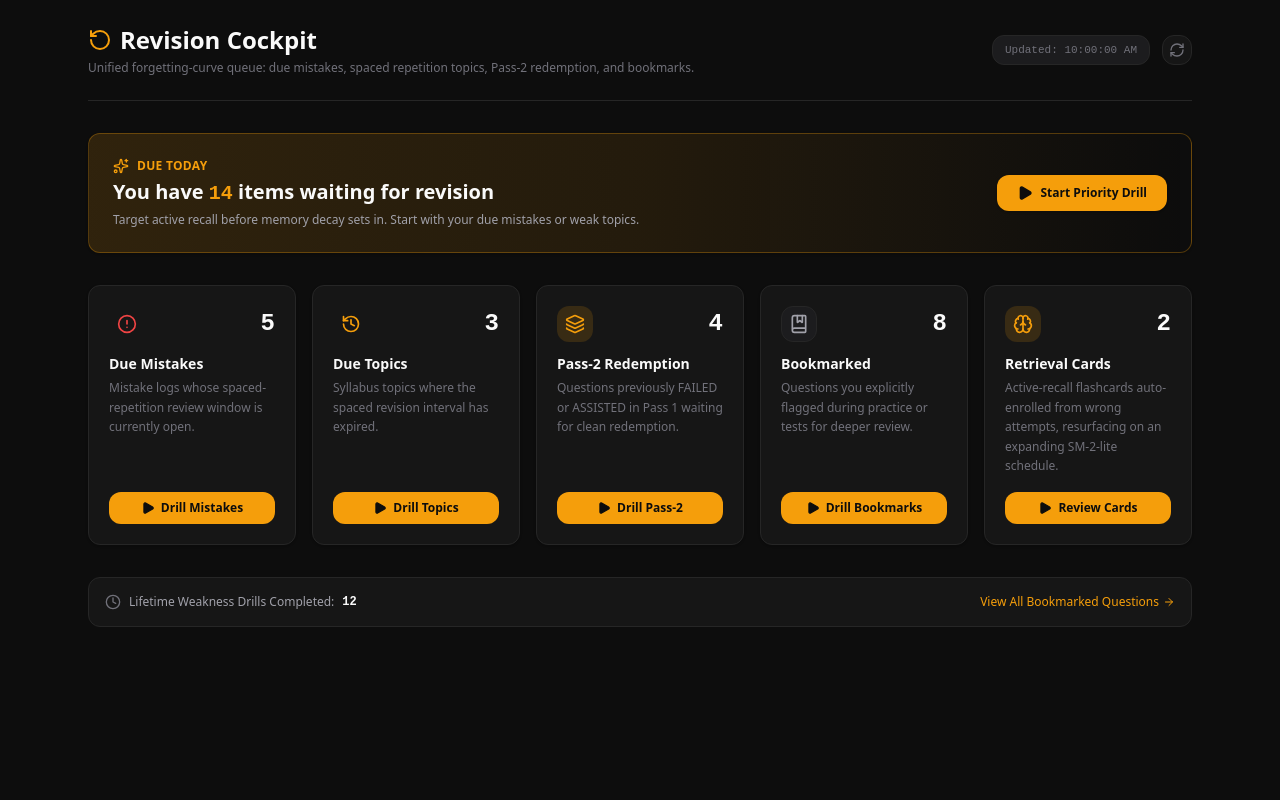
Test: RevisionPage › 8 WP2 - Review Cards opens the flashcard drawer, grades a card, and refreshes the overview
Later steps or results of the test are not shown.
Expected: the text with test id "count-due-cards" reads "2", [1157, 310, 1171, 337]
What coordinates should you click on to do the following:
click the button with test id "btn-review-cards"
I would click on:
 (1088, 508)
Its box is [1005, 492, 1171, 524].
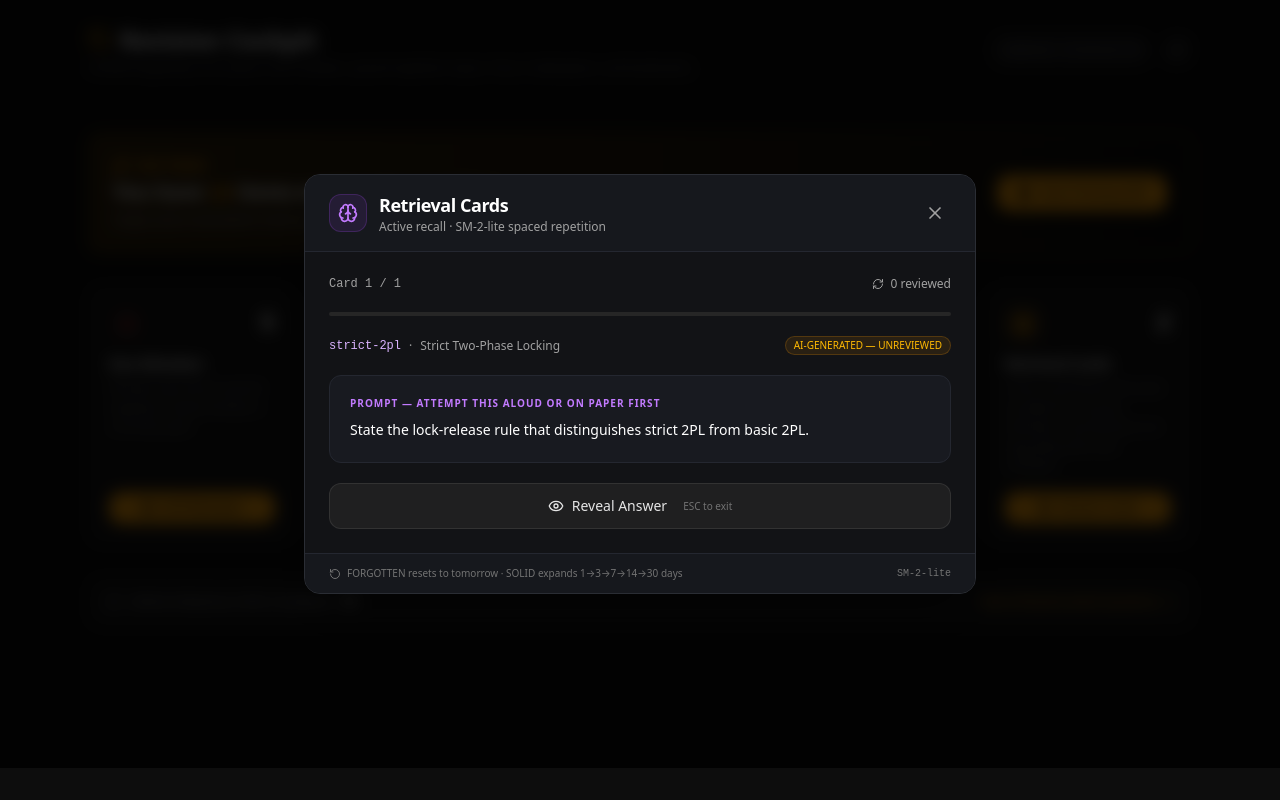
Result: the element with test id "card-prompt" is shown at [329, 375, 951, 463]
Result: the element with test id "card-prompt" shows "lock-release rule" at [350, 420, 809, 439]
# Reveal then grade SOLID
What coordinates should you click on to do the following:
click the button with test id "card-reveal-btn"
I would click on:
 (640, 506)
Its box is [329, 483, 951, 529].
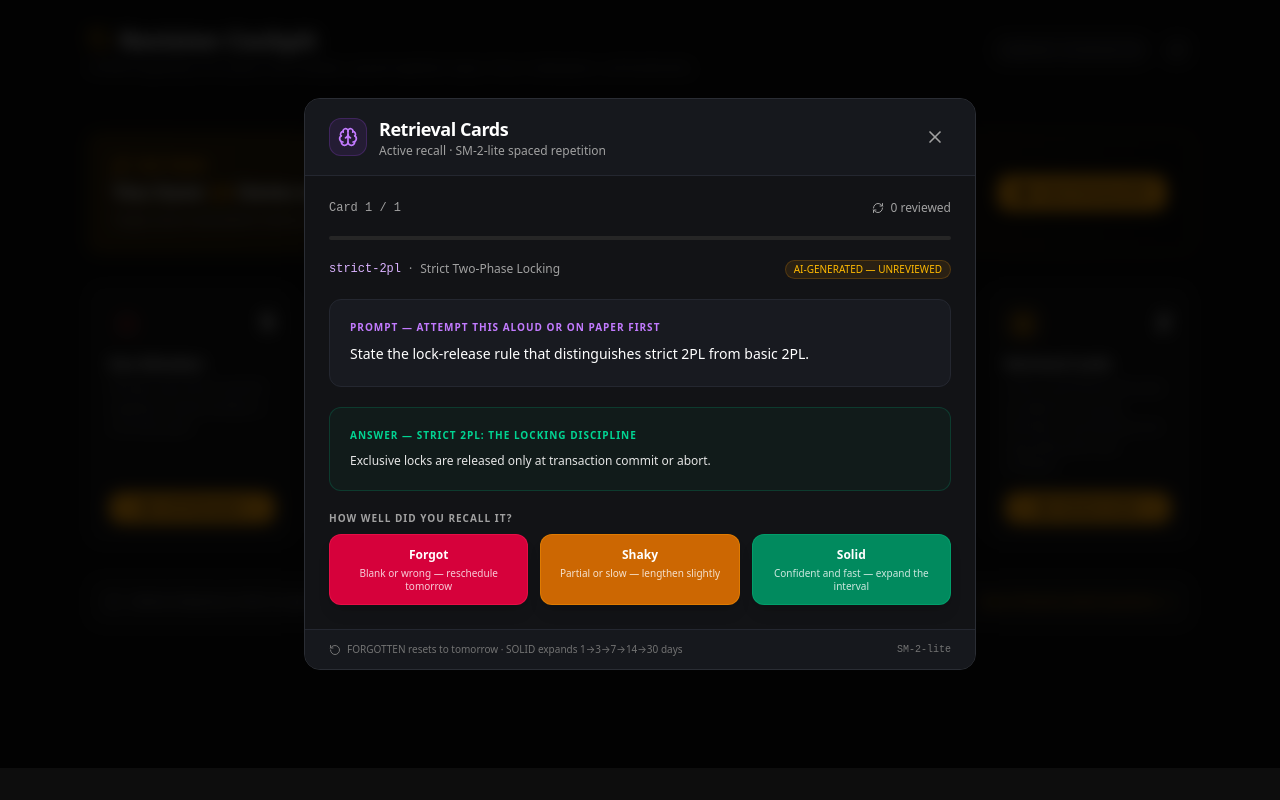
Result: the button with test id "grade-solid-btn" is shown
What coordinates should you click on to do the following:
click the button with test id "grade-solid-btn"
I would click on:
 (851, 570)
Its box is [752, 534, 951, 605].
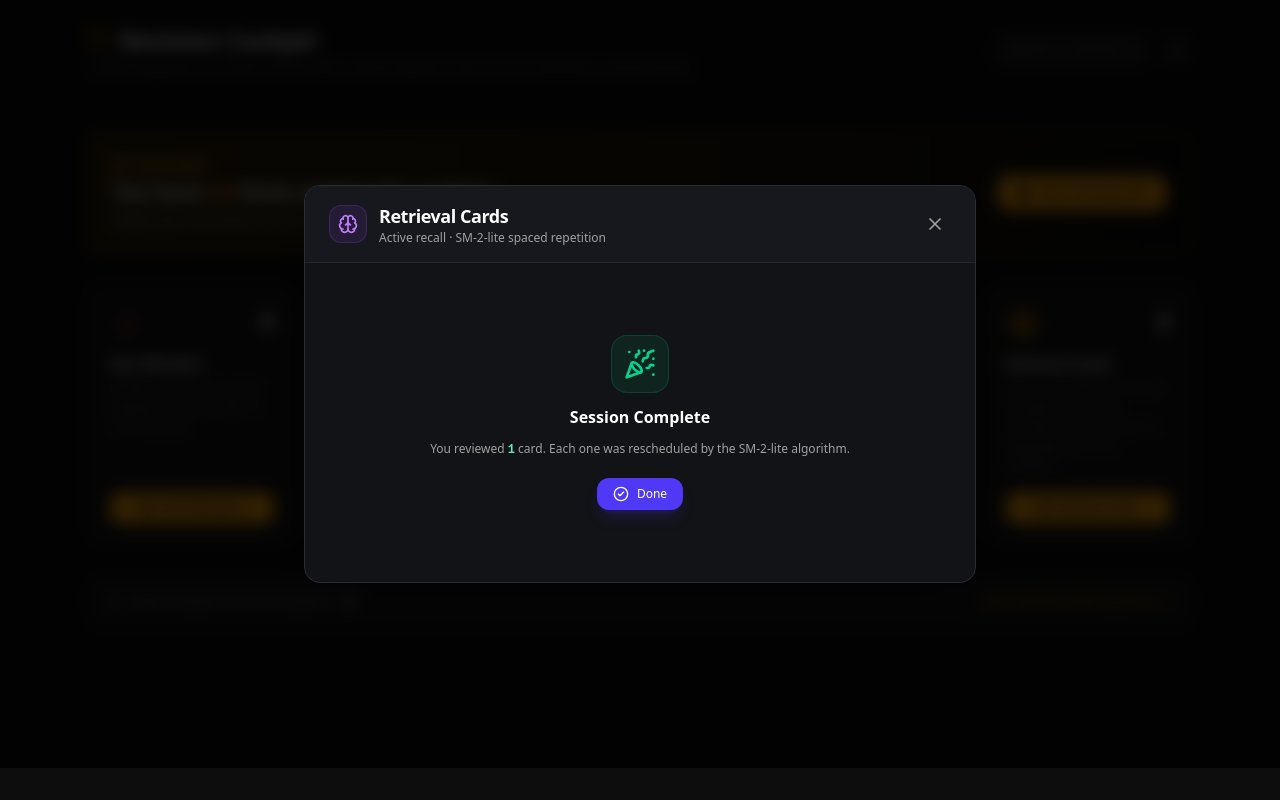
Result: the element with test id "card-drawer-complete" is shown at [430, 335, 850, 510]
